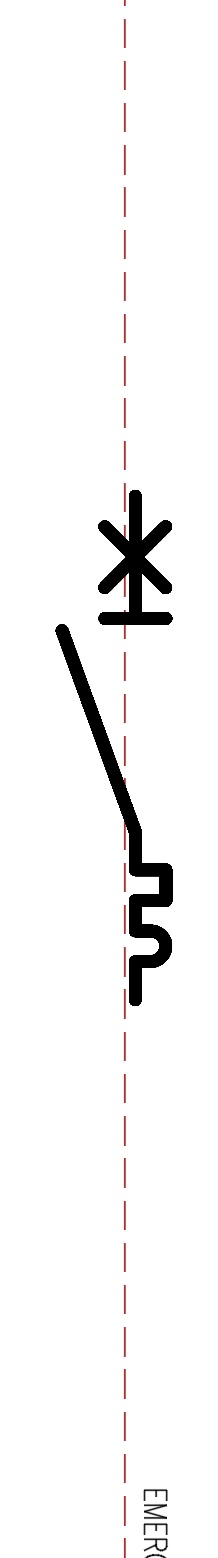interruptor_termomagnetico: (49, 483, 179, 1013)
